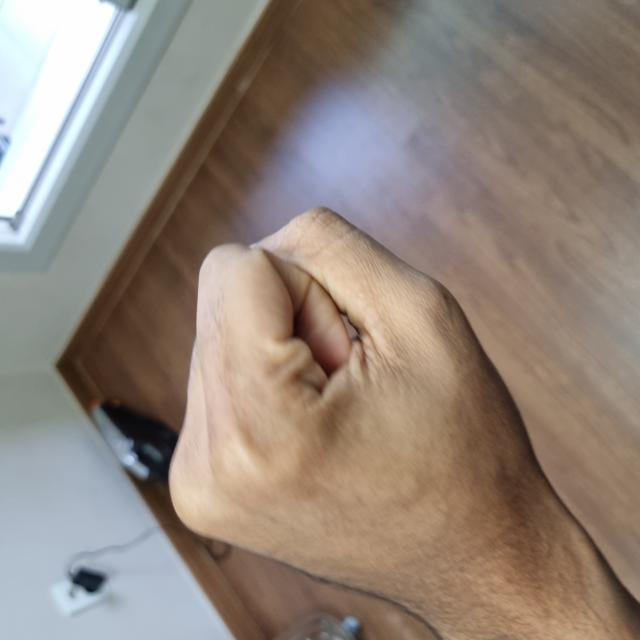Rock: (32, 179, 391, 530)
